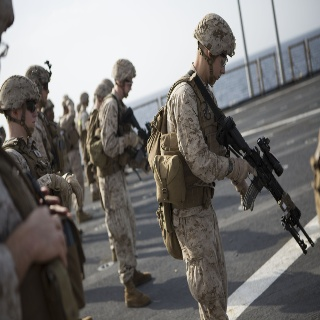rifle: (214, 114, 316, 262)
